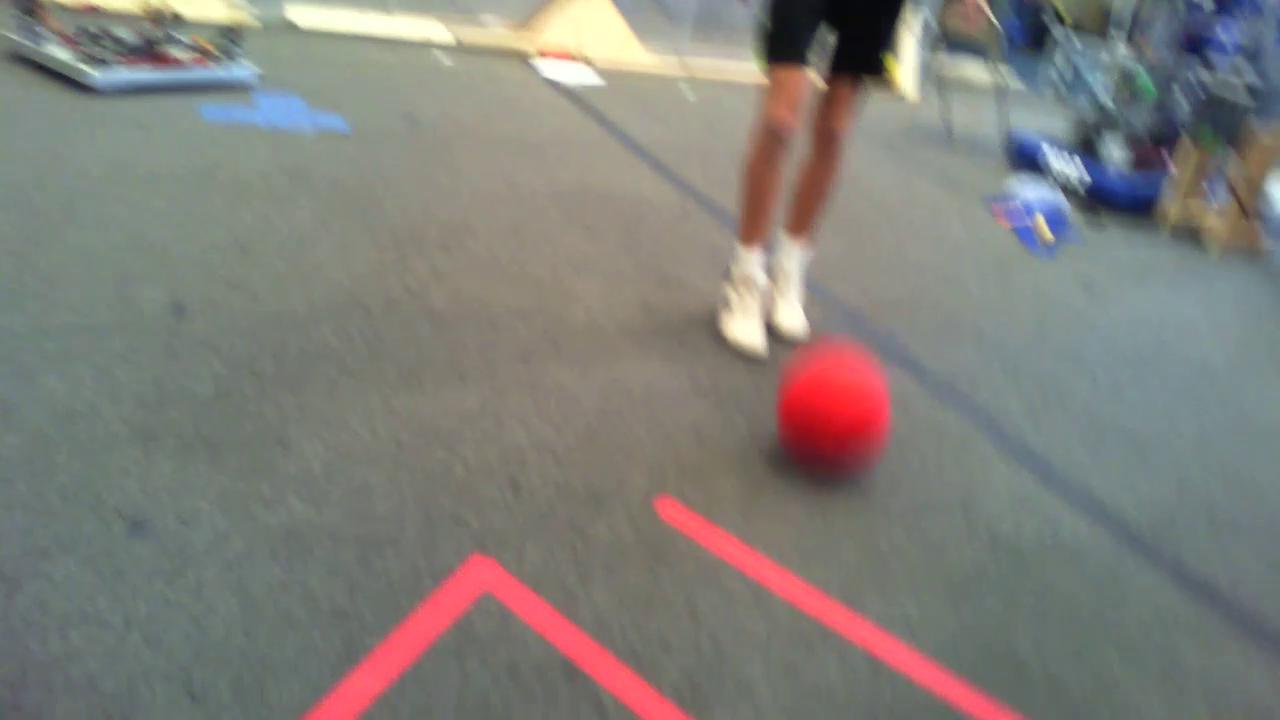Red_Ball: (761, 337, 900, 475)
